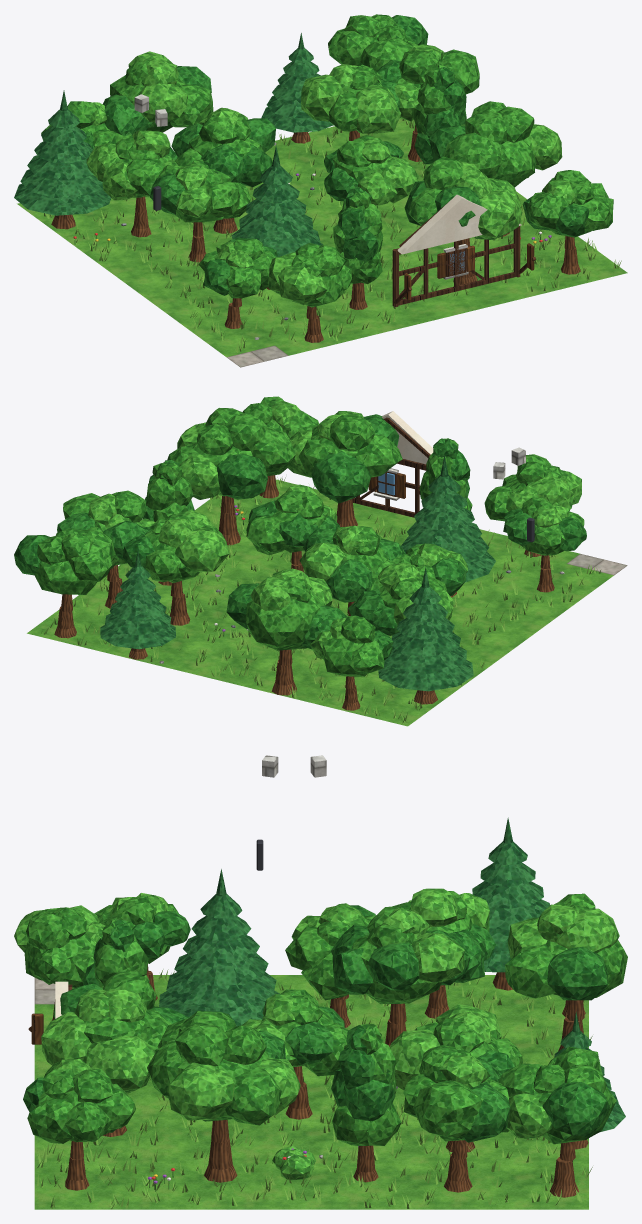
Rendered from chunk_3_1.glb.
The picture shows the model from 3 angles, top to bottom: view 1: azimuth 30°, elevation 25°; view 2: azimuth 150°, elevation 25°; view 3: azimuth 270°, elevation 25°; orthographic projection. The views are drawn at different scales.
Visible parts, largest first — view 1: chunk_3_1; view 2: chunk_3_1; view 3: chunk_3_1.
Part boxes in pixels (x1=…): chunk_3_1: x1=14, y1=14, x2=627, y2=367; chunk_3_1: x1=14, y1=396, x2=627, y2=726; chunk_3_1: x1=14, y1=755, x2=627, y2=1209.
Size of the model in its own units: 17.85 by 7.3 by 17.71.
21 materials, 14 textured.
